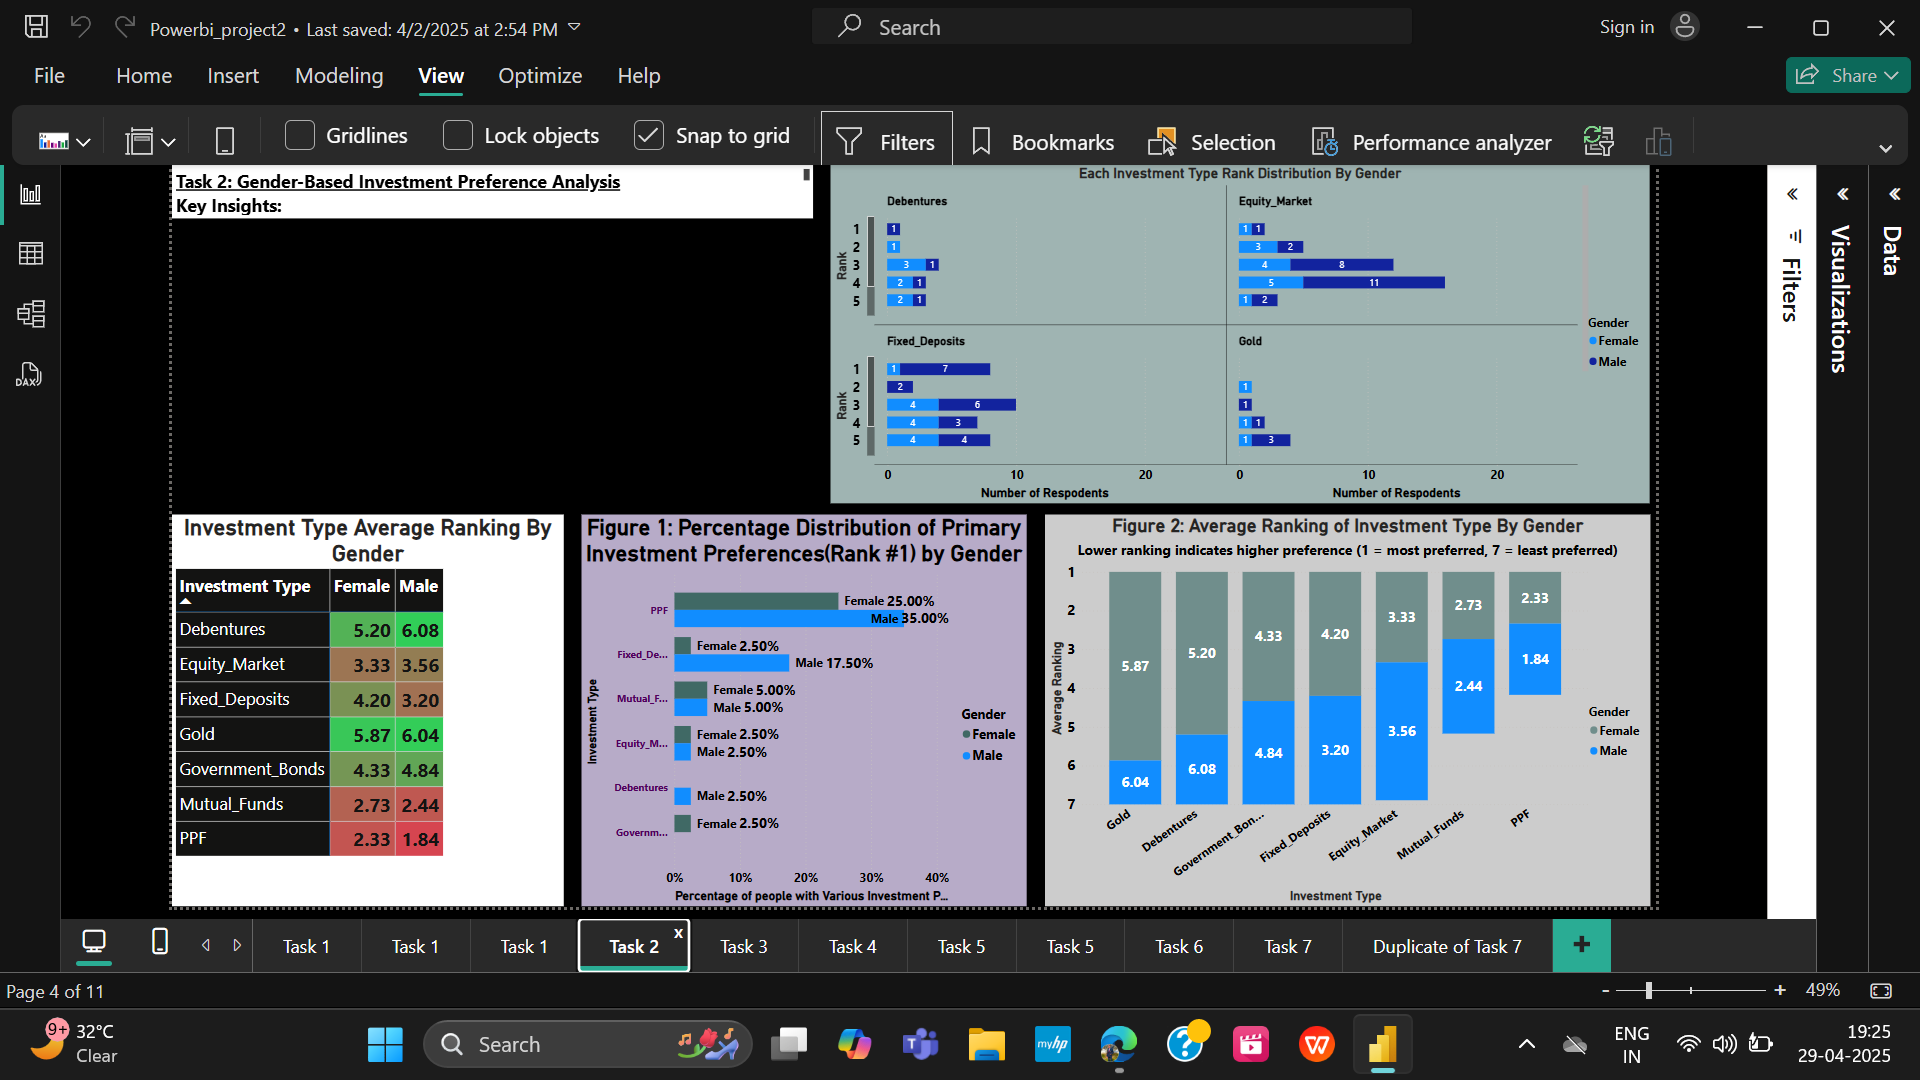

The dashboard page shown, as its layout file describes it:
{"tool":"powerbi","page":{"name":"Task 2","canvas":[2000,1000],"ordinal":3},"visuals":[{"type":"actionButton","box":[0,0,22.5,30],"z":0},{"type":"pivotTable","title":"Investment Type Average Ranking By Gender","fields":{"Rows":["Data_unpivot2.Investment Type"],"Columns":["Data_unpivot2.gender"],"Values":["Avg(Data_unpivot2.Rank)"]},"box":[0,472,528,528],"z":1000},{"type":"columnChart","title":"Figure 2: Average Ranking of Investment Type By Gender","fields":{"Category":["Data_unpivot2.Investment"],"Y":["Avg(Data_unpivot2.Value)"],"Series":["Data_unpivot2.gender"]},"box":[1176,472,816,528],"z":2000},{"type":"barChart","title":"Each Investment Type Rank Distribution By Gender","fields":{"Category":["Data_unpivot1.Rank"],"Y":["CountNonNull(Data_unpivot1.gender)"],"Series":["Data_unpivot1.gender"],"Rows":["Data_unpivot1.Investment Type"]},"box":[888,0,1104,456],"z":3000},{"type":"clusteredBarChart","title":"Figure 1: Percentage Distribution of Primary Investment Preferences(Rank #1) by Gender","fields":{"Category":["Data_Unpivot.Investment"],"Y":["Divide(CountNonNull(Data_Unpivot.gender), ScopedEval(CountNonNull(Data_Unpivot.gender), []))"],"Series":["Data_Unpivot.gender"]},"box":[552,472,600,528],"z":4000},{"type":"textbox","box":[0,0,864,72],"z":5000}]}

Visuals, with their boxes on the page's 2000x1000 design canvas (x1, y1, x2, y2). These are canvas units, not pixel positions in the 1920x1080 screenshot, which may show the page scaled, cropped or inside an application window:
actionButton: crop(0, 0, 22, 30)
"Investment Type Average Ranking By Gender" pivotTable: crop(0, 472, 528, 1000)
"Figure 2: Average Ranking of Investment Type By Gender" columnChart: crop(1176, 472, 1992, 1000)
"Each Investment Type Rank Distribution By Gender" barChart: crop(888, 0, 1992, 456)
"Figure 1: Percentage Distribution of Primary Investment Preferences(Rank #1) by Gender" clusteredBarChart: crop(552, 472, 1152, 1000)
textbox: crop(0, 0, 864, 72)
